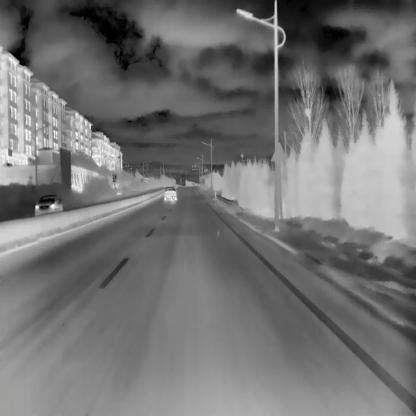car: (33, 192, 62, 214), (162, 184, 177, 200)
